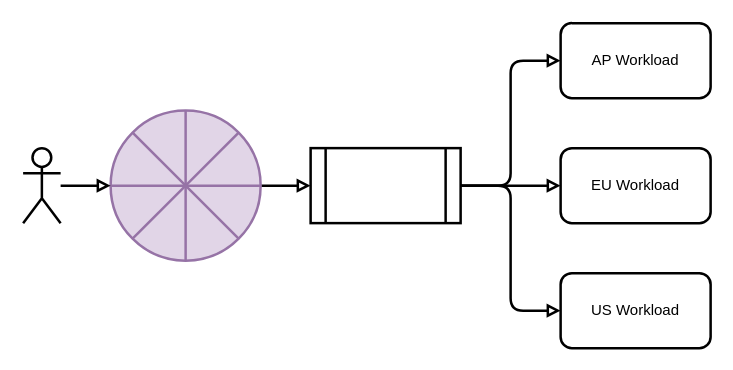
The diagram is 733 pixels wide and 370 high, and some of its shapes have lost their labels. The shapes that lost their labels are listed below. From the top down, each one's centre as x and y in pixels, then its label:
At (x=41, y=185): "Me".
At (x=385, y=185): "Queue".
